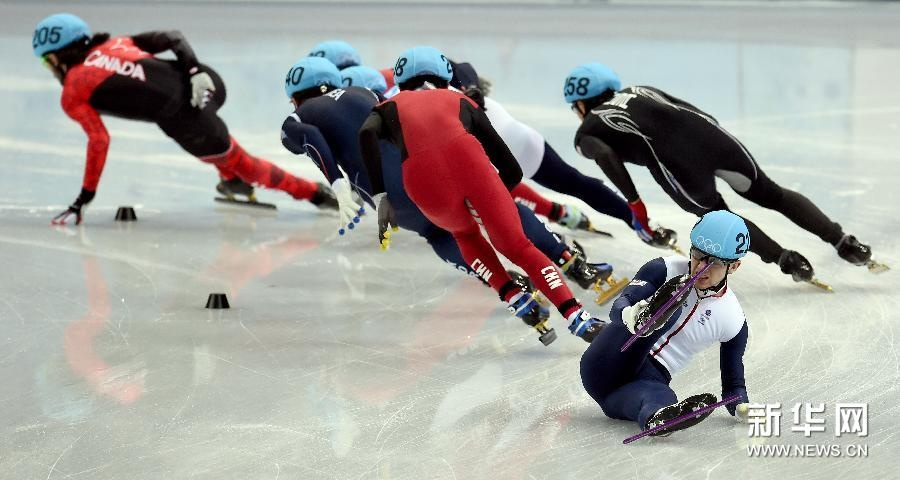falling: (560, 204, 785, 435)
